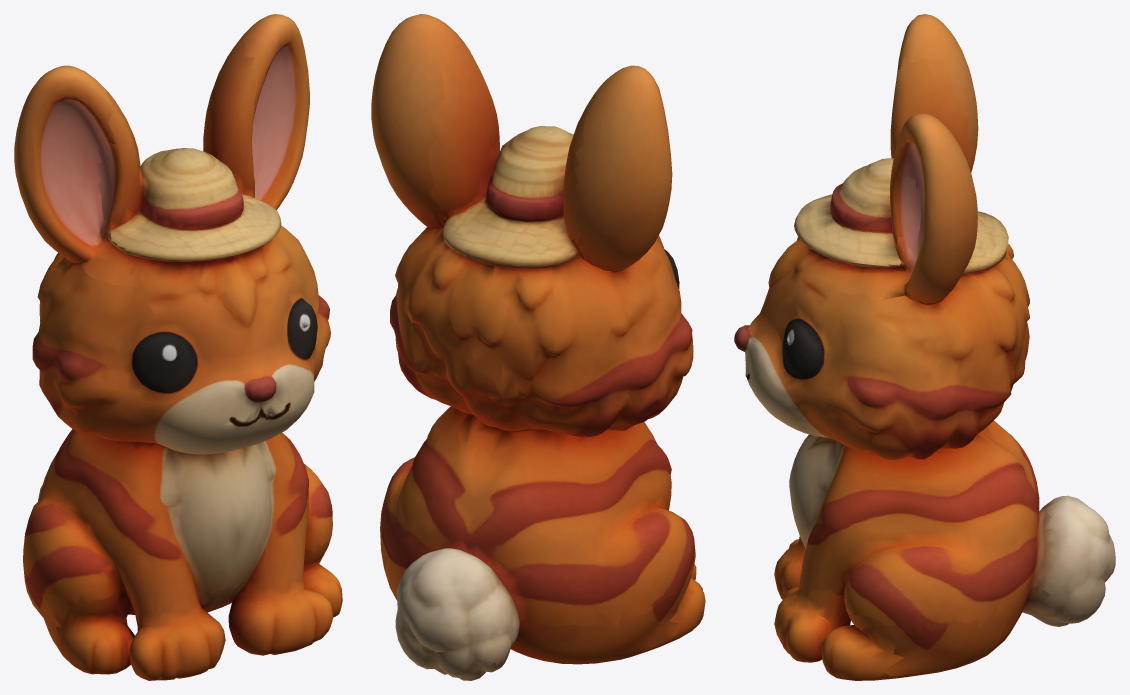
Rendered from hoodoo_hare_rig.glb.
3 renders of one model, left to right at view 1: azimuth 30°, elevation 25°; view 2: azimuth 150°, elevation 25°; view 3: azimuth 270°, elevation 25°, orthographic. The views are drawn at different scales.
Parts seen in each view (by area): view 1: Head, Body, EarR, LegFR, EarL, LegFL, LegBR; view 2: Head, Body, EarR, EarL, Tail, LegBR, LegFR, LegBL; view 3: Head, Body, EarL, LegFL, Tail, LegBL, EarR, LegFR.
Boxes of the visible parts, box(x1,y1,x2,y2) form: Head: box(32, 41, 330, 454); Body: box(23, 429, 332, 614); EarR: box(14, 65, 144, 291); LegFR: box(42, 586, 228, 680); EarL: box(232, 14, 309, 250); LegFL: box(206, 536, 342, 655); LegBR: box(25, 580, 61, 646); Head: box(390, 42, 693, 436); Body: box(380, 406, 695, 628); EarR: box(572, 65, 672, 271); EarL: box(371, 14, 464, 241); Tail: box(395, 548, 517, 675); LegBR: box(433, 587, 683, 680); LegFR: box(668, 564, 705, 640); LegBL: box(381, 554, 447, 674); Head: box(734, 56, 1029, 459); Body: box(789, 420, 1056, 636); EarL: box(838, 113, 977, 303); LegFL: box(774, 587, 908, 680); Tail: box(1044, 495, 1115, 620); LegBL: box(878, 579, 1107, 680); EarR: box(897, 14, 978, 172); LegFR: box(774, 536, 805, 599).
Bounding box in the file's own units: 0.531 × 1 × 0.6232.
1 material, 1 textured.
